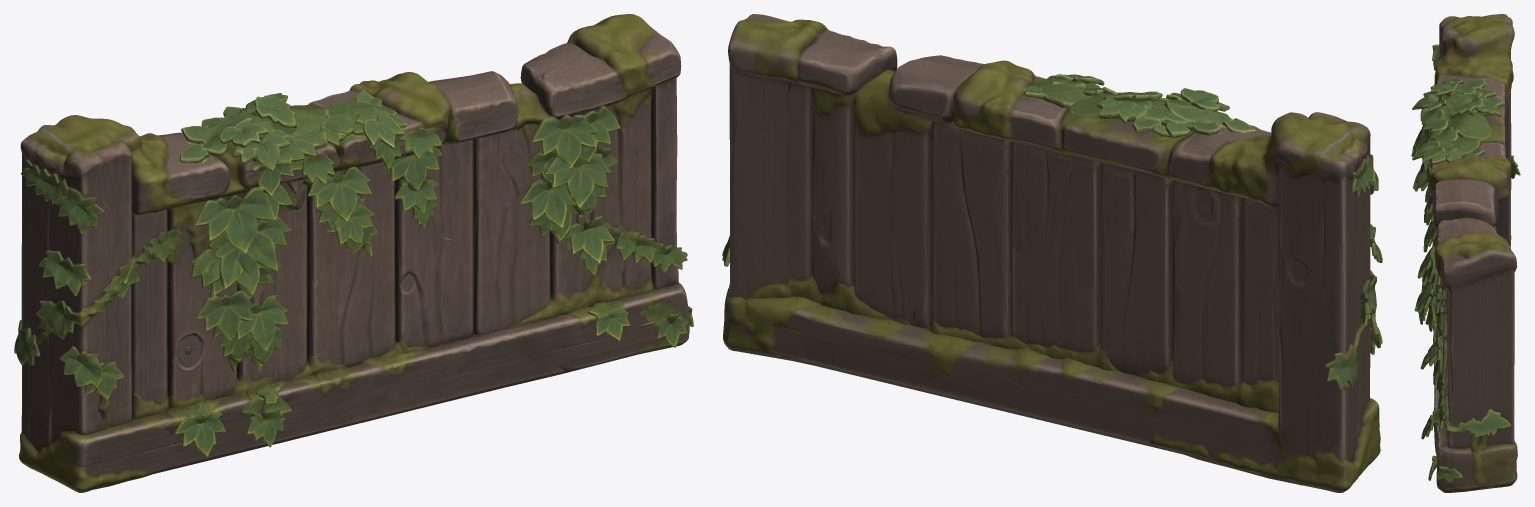
The model's file is wall-01.obj.
3 renders of one model, left to right at view 1: azimuth 30°, elevation 25°; view 2: azimuth 150°, elevation 25°; view 3: azimuth 270°, elevation 25°, orthographic. The views are drawn at different scales.
Visible parts, largest first — view 1: Meshy_AI_Ivy_Covered_Wooden_Fe_0919052808_texture; view 2: Meshy_AI_Ivy_Covered_Wooden_Fe_0919052808_texture; view 3: Meshy_AI_Ivy_Covered_Wooden_Fe_0919052808_texture.
Boxes of the visible parts, x1,y1,x2,y2 form: Meshy_AI_Ivy_Covered_Wooden_Fe_0919052808_texture: (14, 14, 693, 492); Meshy_AI_Ivy_Covered_Wooden_Fe_0919052808_texture: (722, 14, 1382, 492); Meshy_AI_Ivy_Covered_Wooden_Fe_0919052808_texture: (1411, 14, 1520, 492).
Bounding box in the file's own units: 1.9 × 0.9675 × 0.3701.
Materials: 1 (1 with a texture image).
